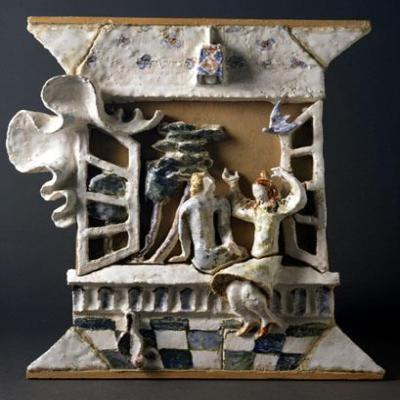sculpture: (6, 18, 385, 382)
